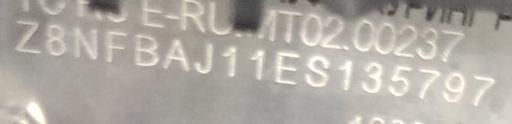letter: (160, 36, 192, 74), (70, 24, 102, 61), (466, 69, 496, 108), (132, 32, 162, 70), (412, 64, 440, 101), (272, 49, 300, 85), (14, 18, 42, 53), (104, 26, 128, 66), (302, 53, 330, 87), (388, 62, 412, 100), (194, 39, 218, 77), (360, 58, 384, 95), (441, 69, 465, 104), (246, 46, 268, 84), (219, 42, 241, 78), (46, 22, 68, 57), (334, 57, 354, 93)
